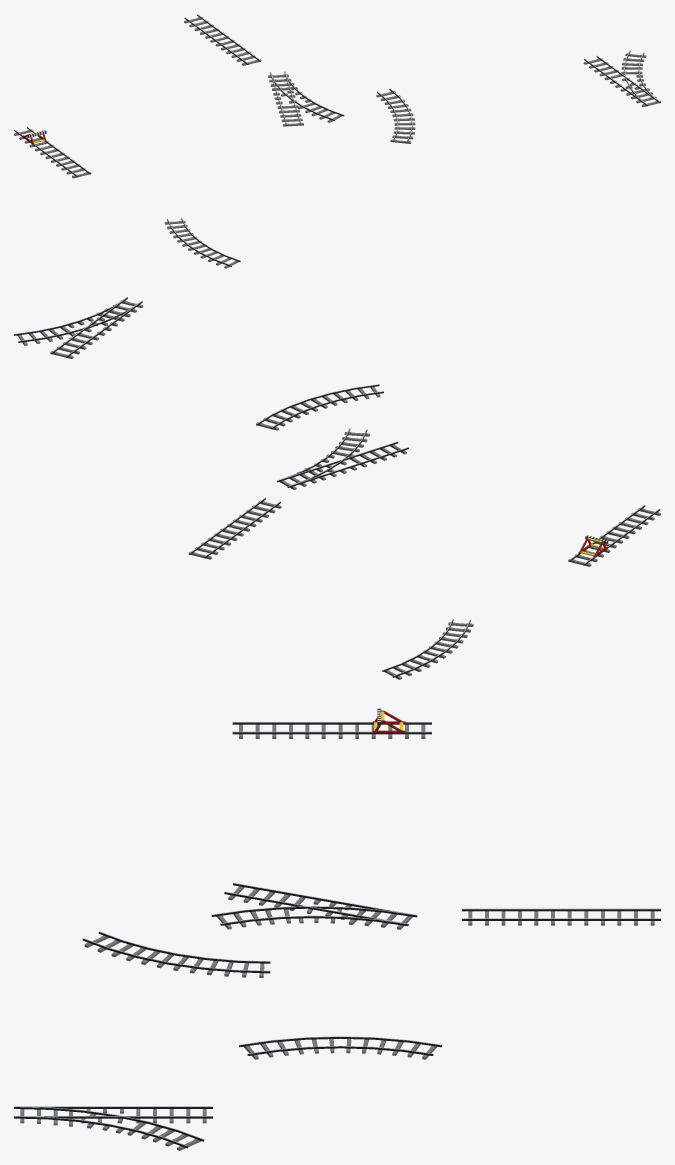
The model's file is sections.FBX.
The picture shows the model from 3 angles, top to bottom: view 1: azimuth 30°, elevation 25°; view 2: azimuth 150°, elevation 25°; view 3: azimuth 270°, elevation 25°; orthographic projection. The views are drawn at different scales.
Visible parts, largest first — view 1: rail_switch_right, rail_switch_left, rail_section_buffer, rail_section_straight, rail_section_left, rail_section_right; view 2: rail_switch_left, rail_switch_right, rail_section_buffer, rail_section_right, rail_section_straight, rail_section_left; view 3: rail_switch_left, rail_switch_right, rail_section_buffer, rail_section_right, rail_section_straight, rail_section_left.
Part boxes in pixels (x1,y1,x2,y2): rail_switch_right: [583, 50, 660, 106]; rail_switch_left: [268, 71, 344, 126]; rail_section_buffer: [14, 127, 91, 178]; rail_section_straight: [184, 14, 261, 65]; rail_section_left: [164, 217, 240, 268]; rail_section_right: [376, 88, 415, 143]; rail_switch_left: [277, 428, 408, 489]; rail_switch_right: [14, 297, 143, 358]; rail_section_buffer: [568, 505, 660, 566]; rail_section_right: [256, 384, 383, 430]; rail_section_straight: [188, 497, 281, 559]; rail_section_left: [382, 618, 473, 679]; rail_switch_left: [211, 883, 417, 929]; rail_switch_right: [14, 1106, 212, 1150]; rail_section_buffer: [232, 708, 431, 738]; rail_section_right: [82, 931, 270, 977]; rail_section_straight: [462, 908, 660, 925]; rail_section_left: [239, 1036, 441, 1059].
Bounding box in the file's own units: 101 × 64.98 × 24.38.
Materials: 1 (1 with a texture image).
